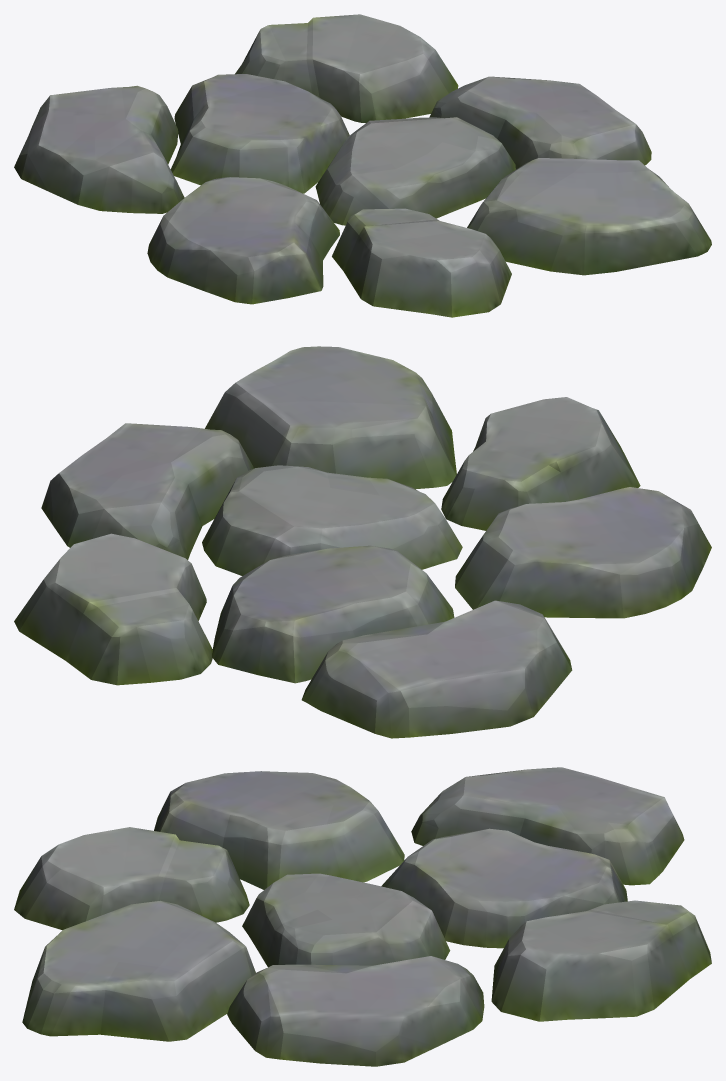
Rendered from sn_rock_path_round_small_3.glb.
3 views of the same model, one above another, from view 1: azimuth 30°, elevation 25°; view 2: azimuth 150°, elevation 25°; view 3: azimuth 270°, elevation 25° (orthographic). The views are drawn at different scales.
Parts seen in each view (by area): view 1: RockPath_Round_Small_3; view 2: RockPath_Round_Small_3; view 3: RockPath_Round_Small_3.
Boxes of the visible parts, box(x1,y1,x2,y2) form: RockPath_Round_Small_3: box(14, 14, 711, 317); RockPath_Round_Small_3: box(14, 346, 711, 738); RockPath_Round_Small_3: box(14, 767, 711, 1066).
Bounding box in the file's own units: 1.18 × 0.1093 × 1.29.
Materials: 1 (1 with a texture image).
